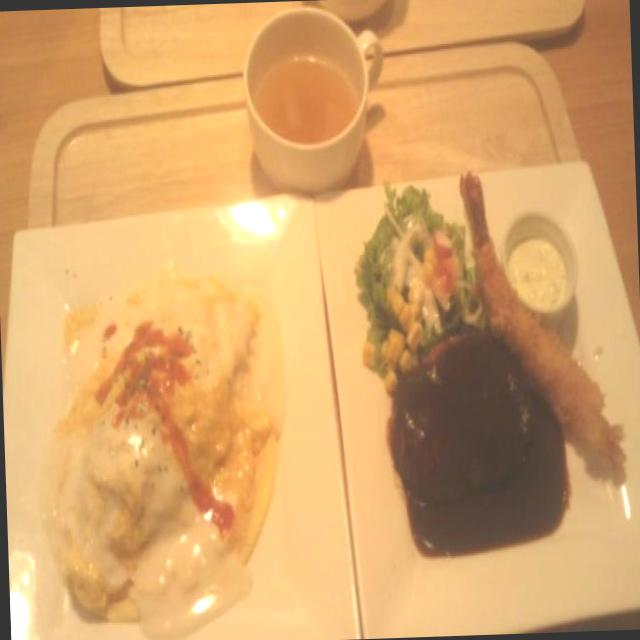Green Salad: (354, 200, 466, 340)
